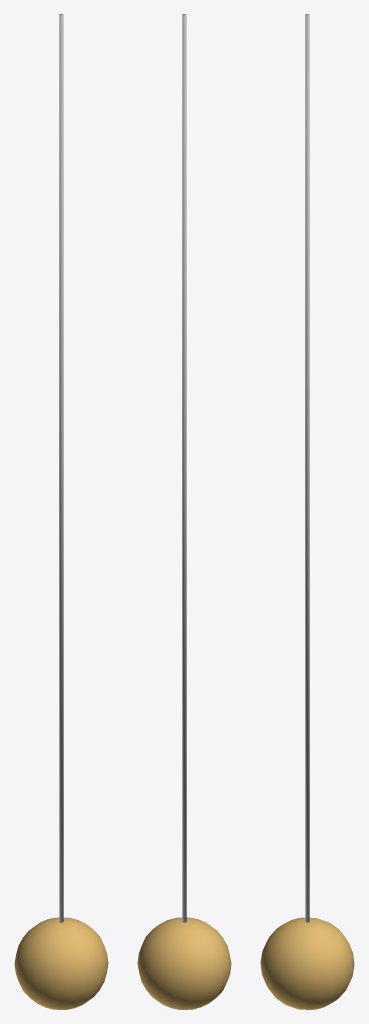
Rendered from pendulum_snake_p7.glb.
The picture shows the model from 3 angles, left to right: view 1: azimuth 30°, elevation 25°; view 2: azimuth 150°, elevation 25°; view 3: azimuth 330°, elevation 25°; orthographic projection.
Parts seen in each view (by area): view 1: Sphere7.001, Pendulum7.001; view 2: Sphere7.001, Pendulum7.001; view 3: Sphere7.001, Pendulum7.001.
Part boxes in pixels (x1,y1,x2,y2): Sphere7.001: (14, 917, 108, 1009); Pendulum7.001: (59, 14, 63, 922); Sphere7.001: (137, 917, 231, 1009); Pendulum7.001: (182, 14, 186, 922); Sphere7.001: (260, 917, 354, 1009); Pendulum7.001: (305, 14, 309, 922).
Size of the model in its own units: 0.04 by 0.4699 by 0.04.
